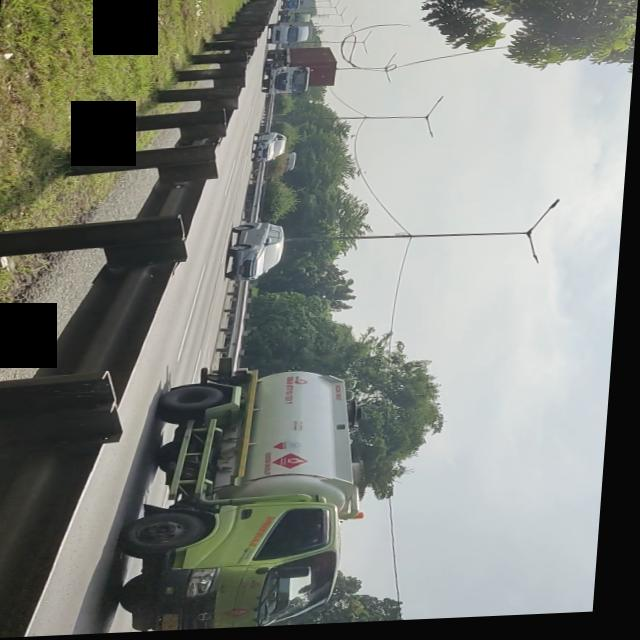Golongan I: (224, 224, 295, 286)
Golongan II: (116, 364, 388, 635)
